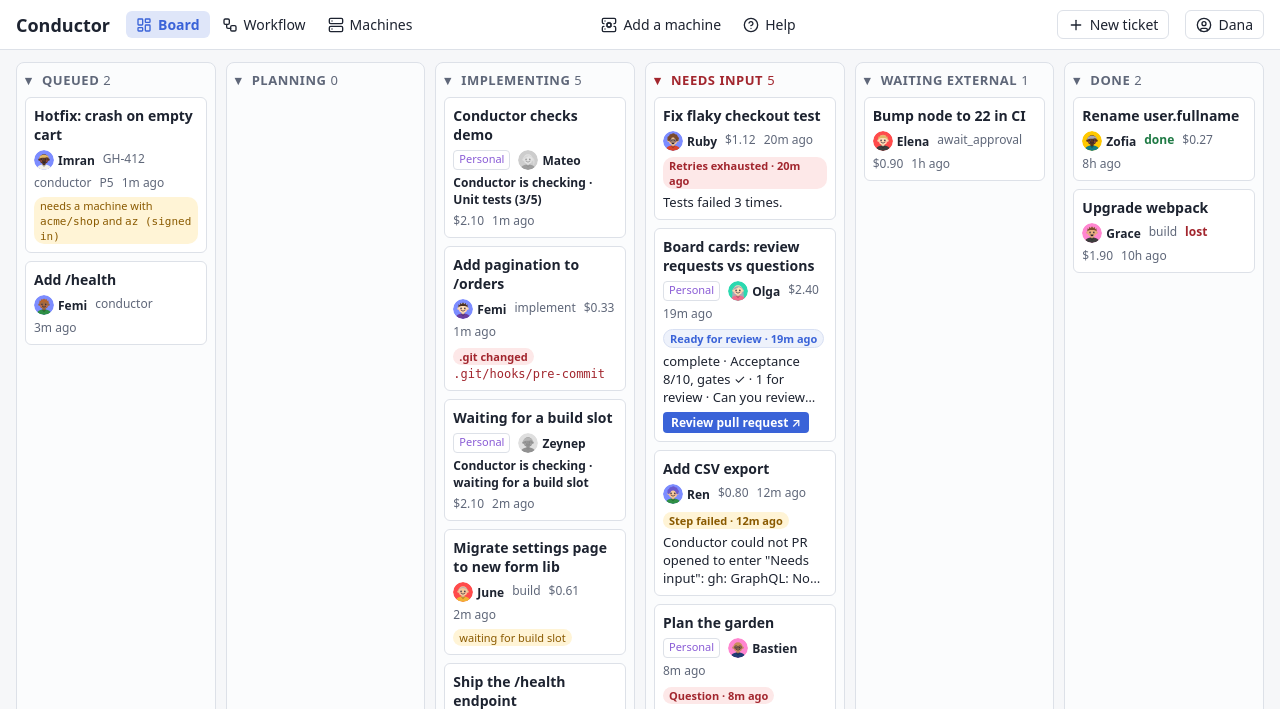
admin page › non-admins don't see the menu entry, and the page refuses them
What coordinates should you click on to do the following:
click the button "Dana"
I would click on:
 (1225, 24)
Its box is [1185,10,1264,39].
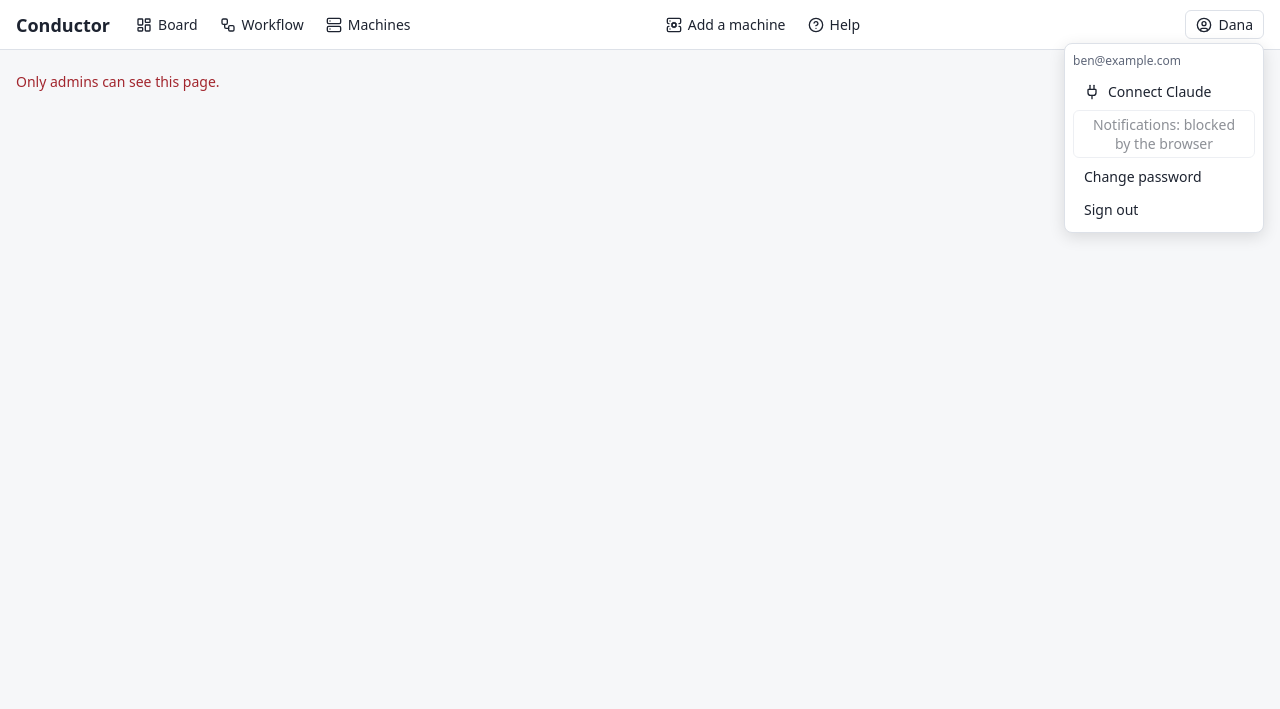
Expected: the menu item "Sign out" is shown, [1073,195,1255,224]
Expected: the message reads "Only admins can see this page.", [16,72,220,91]
